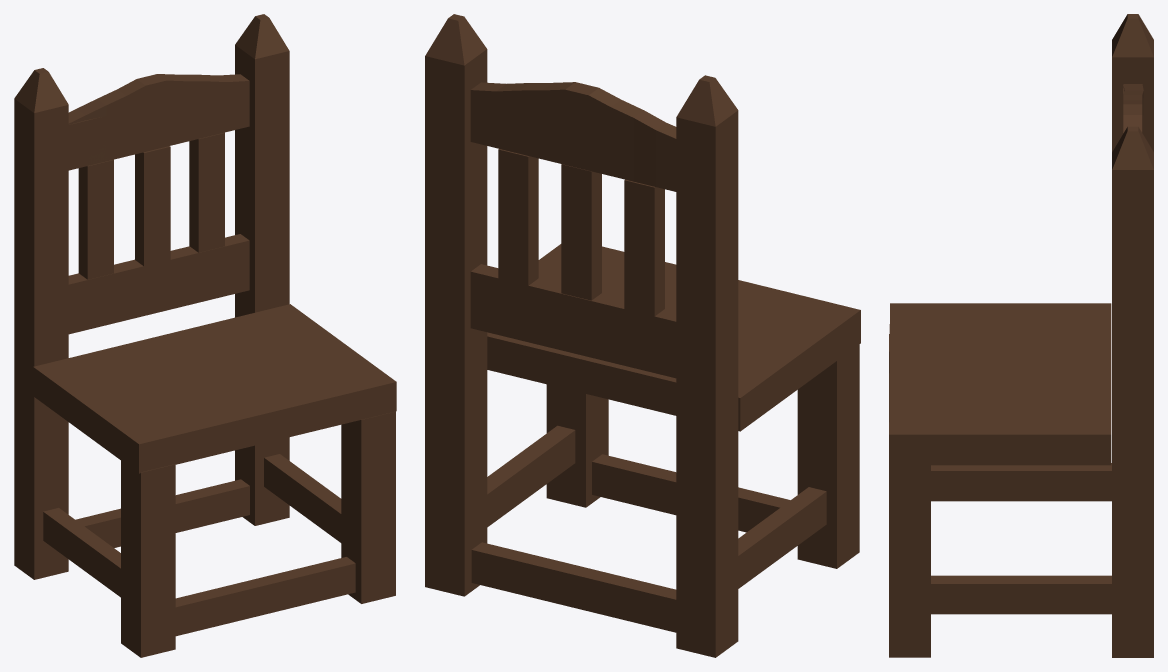
File: Chair Small.glb
3 renders of one model, left to right at view 1: azimuth 30°, elevation 25°; view 2: azimuth 150°, elevation 25°; view 3: azimuth 270°, elevation 25°, orthographic. The views are drawn at different scales.
Visible parts, largest first — view 1: Chair_001; view 2: Chair_001; view 3: Chair_001.
Boxes of the visible parts, bbox=[...] form: Chair_001: bbox=[14, 14, 396, 657]; Chair_001: bbox=[425, 14, 860, 657]; Chair_001: bbox=[889, 14, 1153, 657].
Bounding box in the file's own units: 1.09 × 2.01 × 0.9293.
